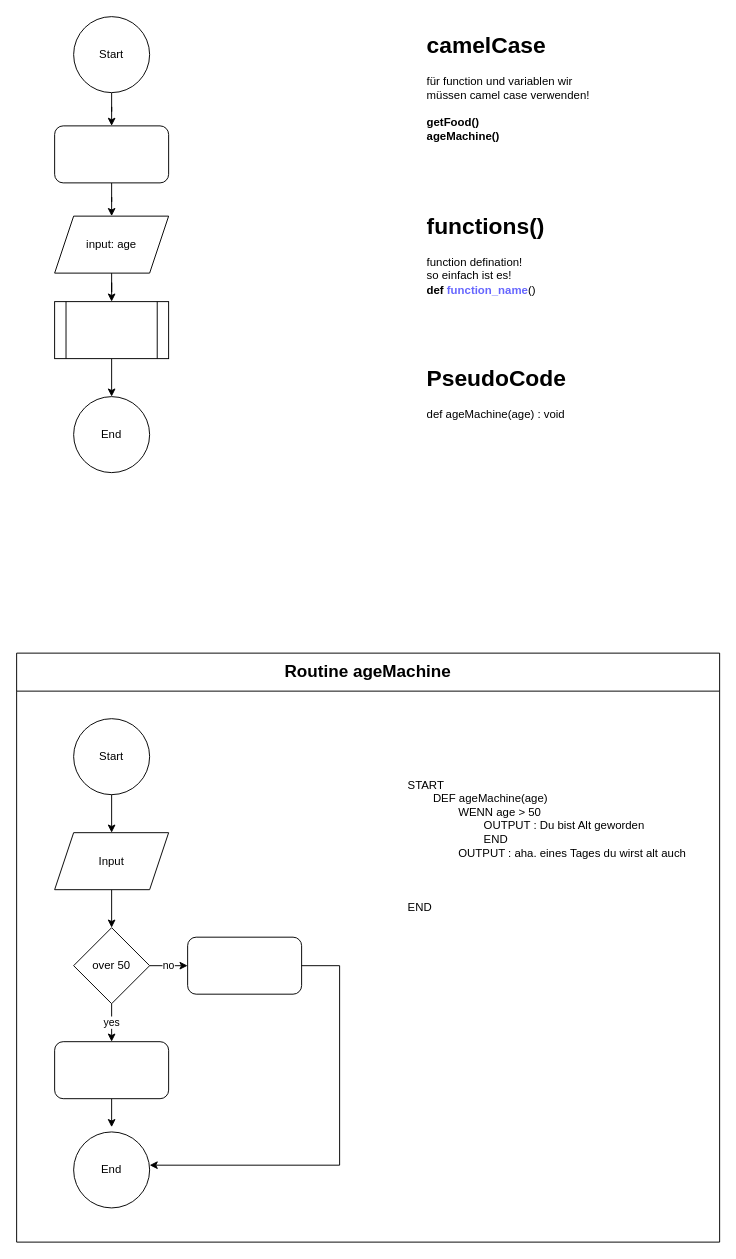
Some shapes in this 736 by 1259 pixel diagram are drawn without their labels. Here are the shapes that lost their labels. From the top down, the centre of each, then its label:
At (x=111, y=154): "print: wie Alt bist DU!".
At (x=111, y=330): "ageMachine".
At (x=244, y=965): "aha. eines Tages du wirst alt auch".
At (x=111, y=1070): "Du bist Alt Geworden".
